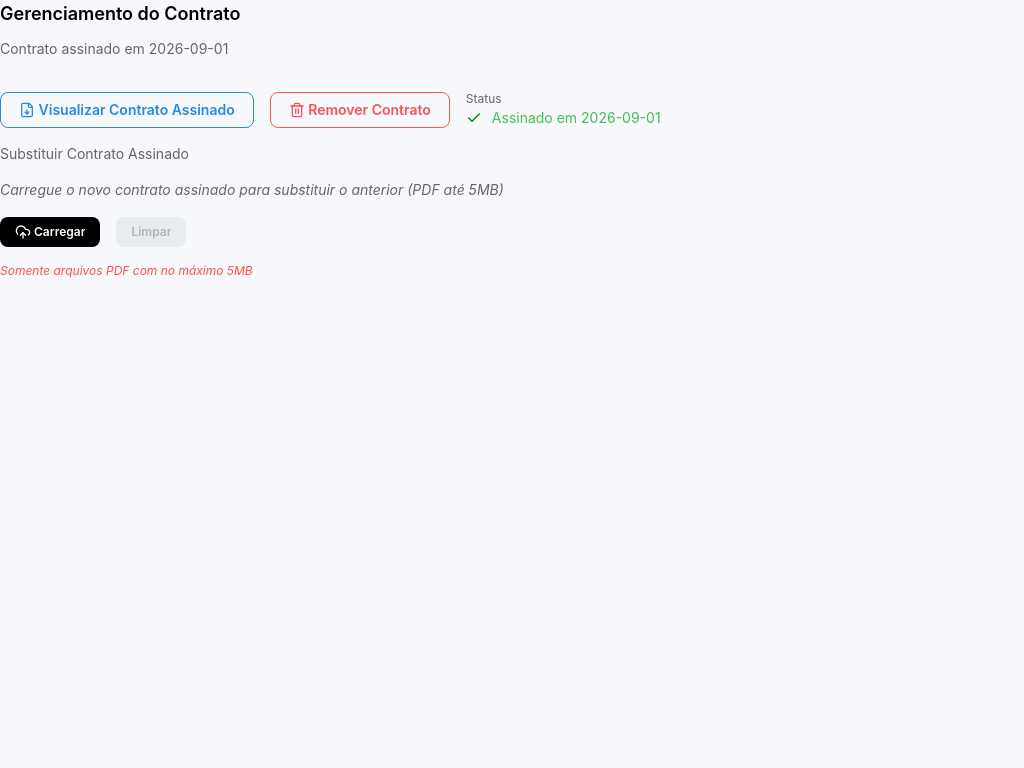
it: ContractTab - MASTER group permissions › opens confirmation modal when MASTER user clicks Remover Contrato
This screenshot has width=1024, height=768.
Click the button "Remover Contrato" at (360, 110), box [270,92,450,128]
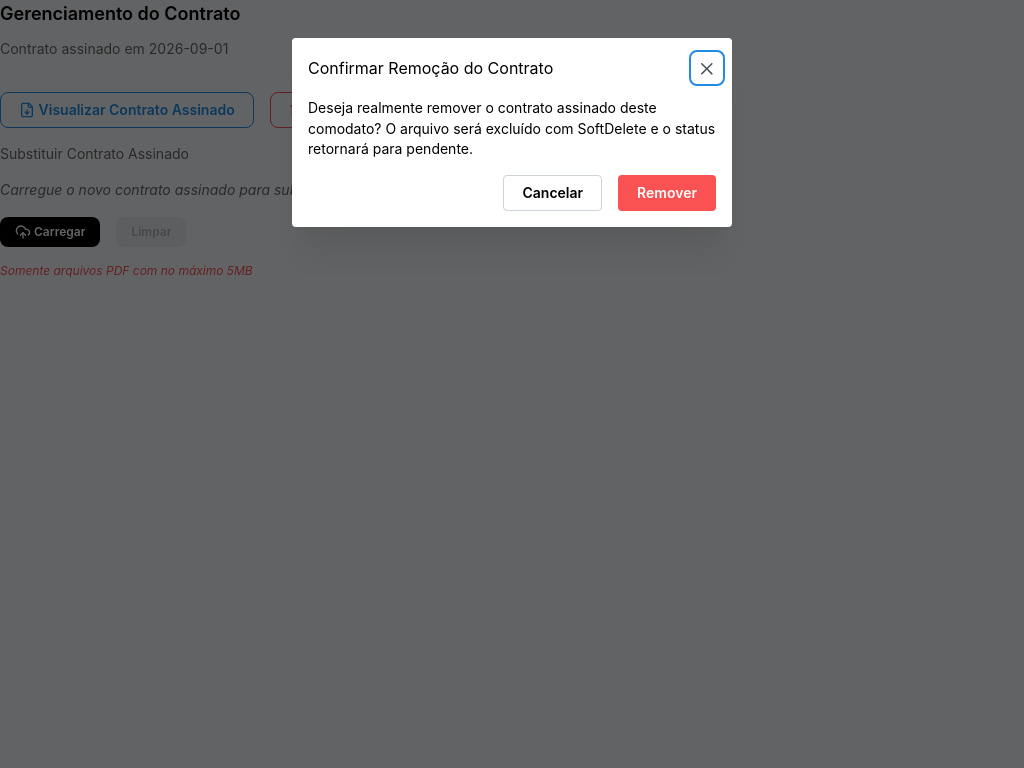
Now the heading "Confirmar Remoção do Contrato" is shown, box [308,60,553,76]
Now the text "Deseja realmente remover o contrato assinado deste comodato? O arquivo será excluído com SoftDelete e o status retornará" is shown, box [308,99,715,157]
